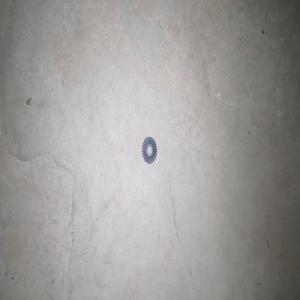Washer: (141, 136, 157, 163)
